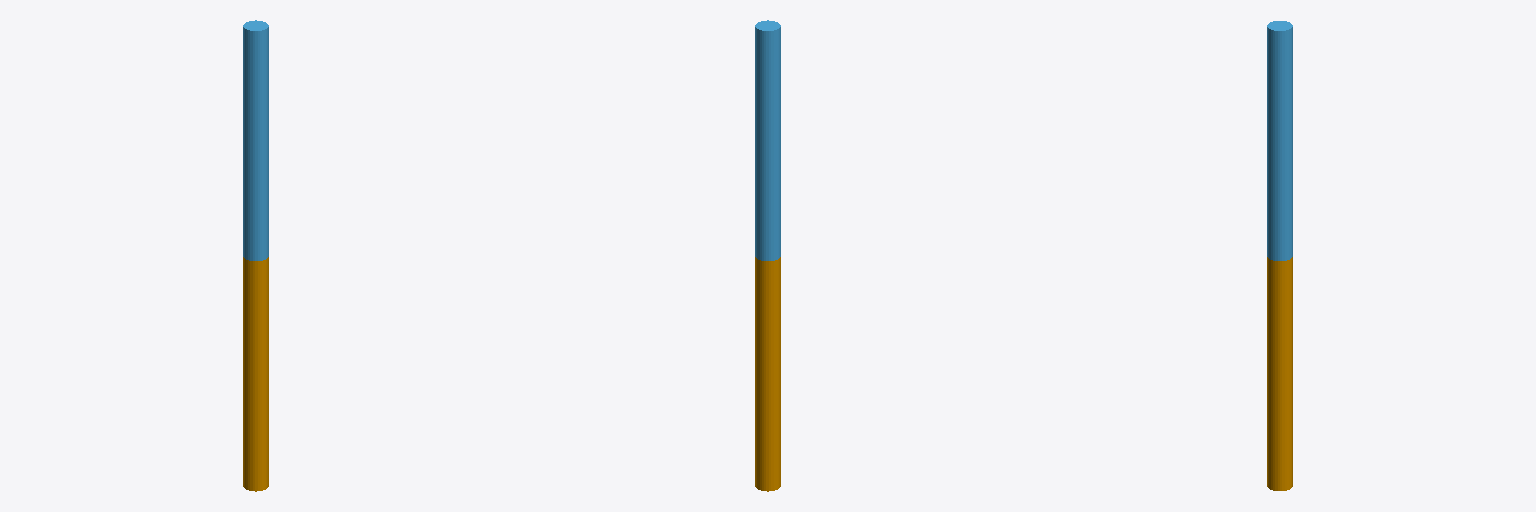
robot.urdf — dummy_bot:
<?xml version="1.0"?>
<robot name="dummy_bot">
    <link name="link0">
        <visual>
        <geometry>
            <cylinder length="1" radius="0.05"/>
        </geometry>
        <origin rpy="0 0 0" xyz="0 0 0.5"/>
        </visual>
    </link>

    <link name="link1">
        <visual>
        <geometry>
            <cylinder length="1" radius="0.05"/>
        </geometry>
        <origin rpy="0 0 0" xyz="0 0 0.5"/>
        </visual>
    </link>

    <joint name="joint1" type="continuous">
        <parent link="link0"/>
        <child link="link1"/>
        <origin rpy="0 0 0" xyz="0 0 1"/>
    </joint>
</robot>

--- Render facts (derived) ---
Views: 3 orthographic renders of the robot side by side, from view 1: azimuth 30°, elevation 25°; view 2: azimuth 150°, elevation 25°; view 3: azimuth 270°, elevation 25°.
Robot: dummy_bot — 2 links, 1 joints (1 continuous); root link link0; default pose: every joint at zero.
Visible links, largest first — view 1: link1, link0; view 2: link1, link0; view 3: link1, link0.
Boxes of the visible links, x1,y1,x2,y2 form: link1: (243, 20, 268, 260); link0: (243, 257, 268, 491); link1: (755, 20, 780, 260); link0: (755, 257, 780, 491); link1: (1267, 21, 1292, 260); link0: (1267, 257, 1292, 490).
Bounding box of the posed robot: 0.1 × 0.1 × 2 m (x, y, z).
Geometry: primitives only (box / cylinder / sphere), no mesh files.